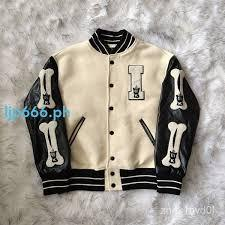sweater: (22, 31, 200, 196)
